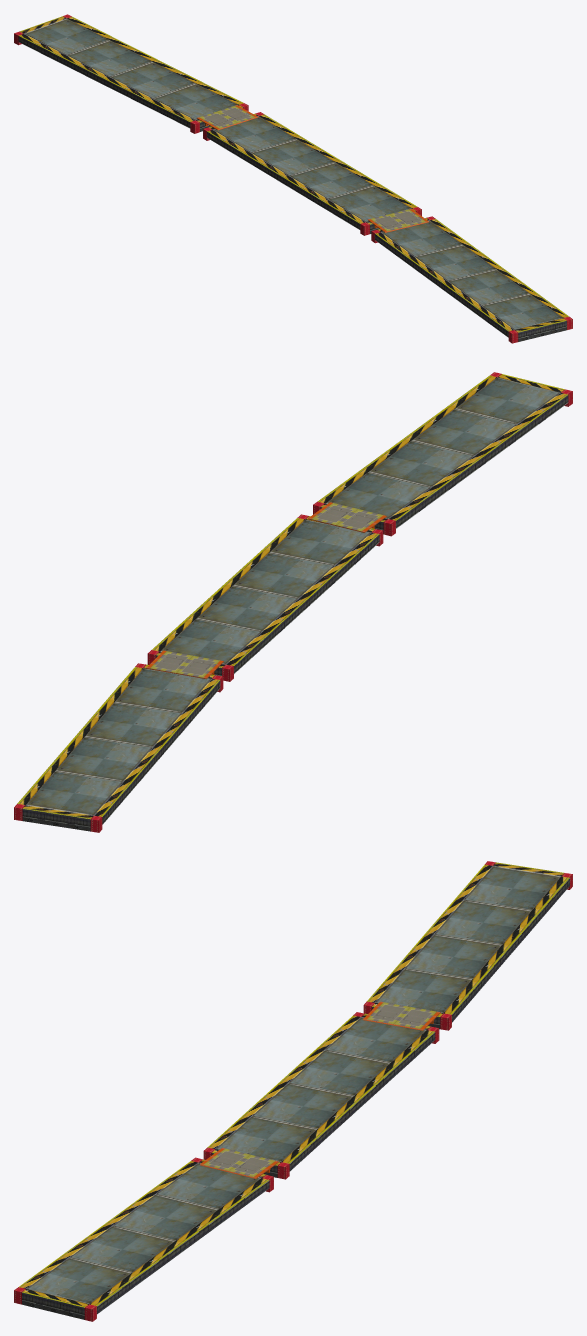
File: STG08_ONS_14.obj
The picture shows the model from 3 angles, top to bottom: view 1: azimuth 30°, elevation 25°; view 2: azimuth 150°, elevation 25°; view 3: azimuth 330°, elevation 25°; orthographic projection. The views are drawn at different scales.
Visible parts, largest first — view 1: Object_2; view 2: Object_2; view 3: Object_2.
Part boxes in pixels (x1,y1,x2,y2): Object_2: (14, 14, 572, 343); Object_2: (14, 372, 572, 832); Object_2: (14, 861, 572, 1321).
Size of the model in its own units: 208 by 16 by 1248.
9 materials, 9 textured.
